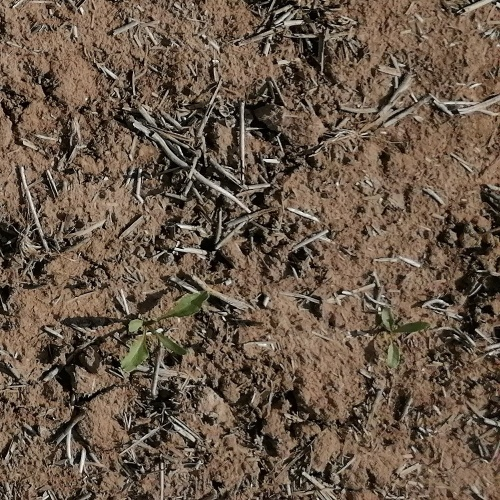beet: (118, 291, 211, 375), (380, 308, 430, 372)
